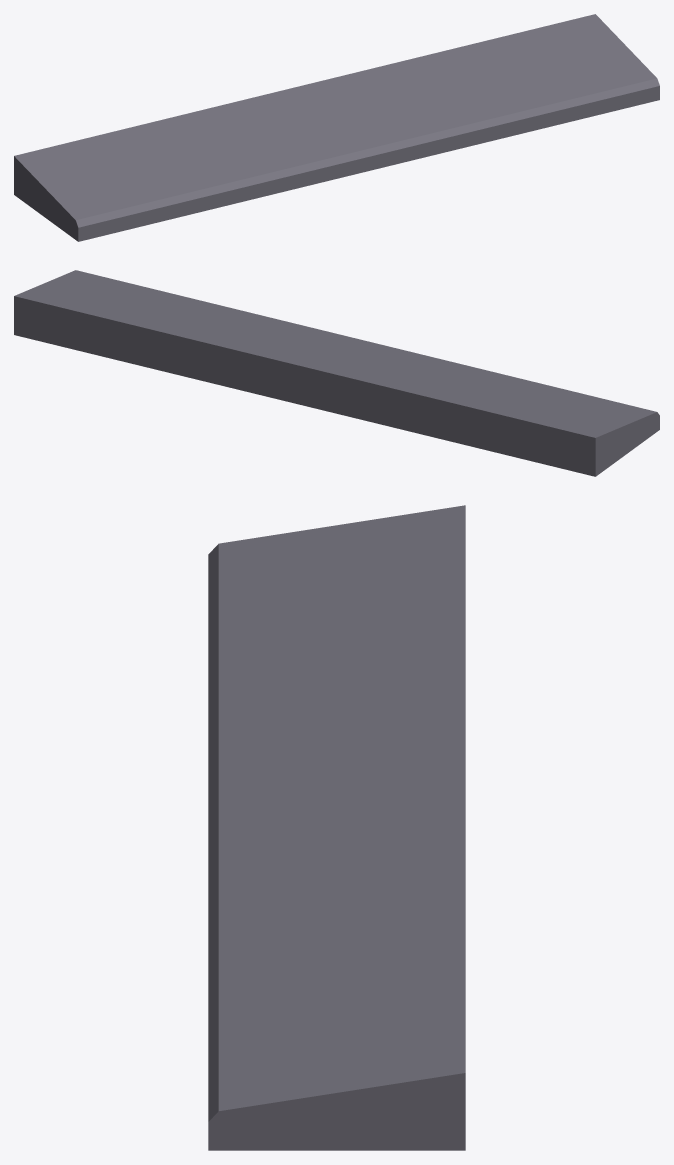
The model's file is SM_Fixture_Canopy16511_01.gltf.
The picture shows the model from 3 angles, top to bottom: view 1: azimuth 30°, elevation 25°; view 2: azimuth 150°, elevation 25°; view 3: azimuth 270°, elevation 25°; orthographic projection. The views are drawn at different scales.
Visible parts, largest first — view 1: SM_Fixture_Canopy16511_01; view 2: SM_Fixture_Canopy16511_01; view 3: SM_Fixture_Canopy16511_01.
Part boxes in pixels (x1=…): SM_Fixture_Canopy16511_01: x1=14, y1=14, x2=659, y2=241; SM_Fixture_Canopy16511_01: x1=14, y1=270, x2=659, y2=476; SM_Fixture_Canopy16511_01: x1=208, y1=505, x2=465, y2=1150.
Bounding box in the file's own units: 1.93 × 0.1234 × 0.37.
1 material, 1 textured.
